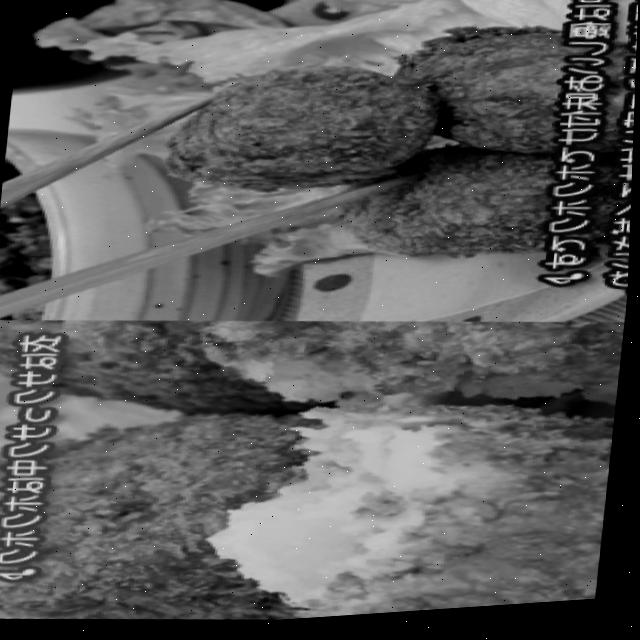炸货点心: (146, 41, 464, 217)
